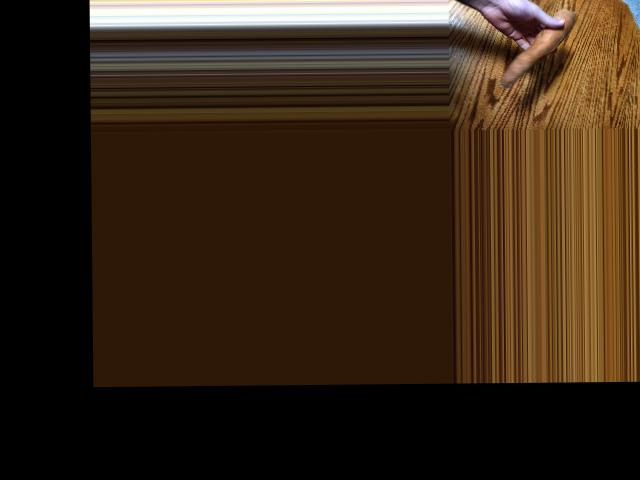sweet_potato: (501, 8, 574, 85)
